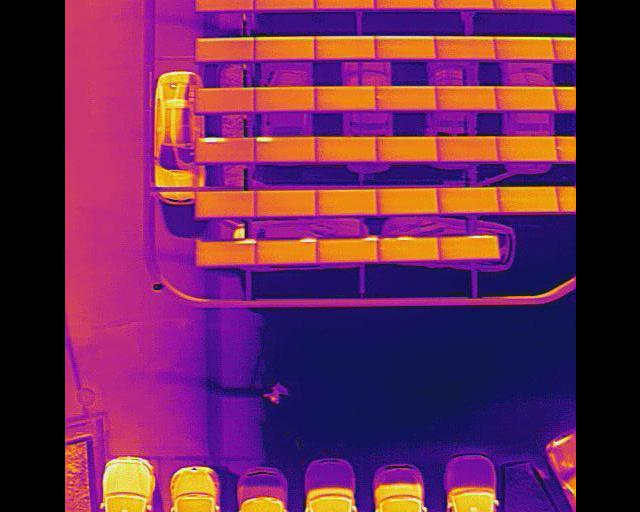No-Anomaly: (497, 187, 559, 213), (495, 136, 559, 161), (436, 188, 500, 213), (436, 136, 500, 161), (375, 188, 438, 213), (375, 137, 437, 162), (315, 137, 377, 162), (314, 189, 376, 214), (254, 190, 316, 215), (436, 86, 497, 111), (195, 191, 255, 216), (253, 87, 315, 111), (375, 86, 436, 110), (495, 86, 556, 110), (433, 36, 494, 60), (316, 86, 376, 110), (314, 36, 376, 59), (374, 37, 435, 60), (494, 37, 555, 60), (254, 38, 314, 60), (195, 89, 254, 111), (195, 38, 253, 60), (433, 0, 494, 10), (493, 0, 553, 10), (196, 0, 253, 10), (374, 0, 434, 8)
Unclassified: (254, 239, 317, 263), (377, 237, 438, 261), (317, 238, 378, 262), (254, 137, 315, 161), (195, 240, 255, 264), (438, 235, 498, 259), (196, 138, 253, 162), (314, 0, 376, 10), (253, 0, 314, 9)
